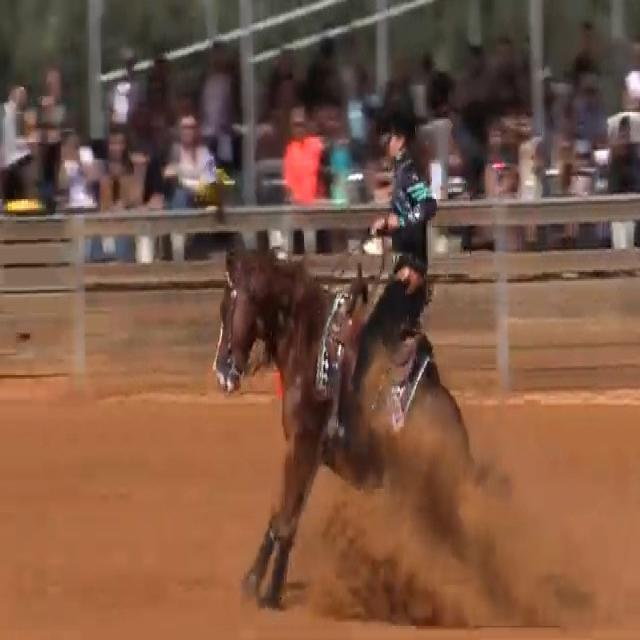horse: (211, 238, 511, 617)
